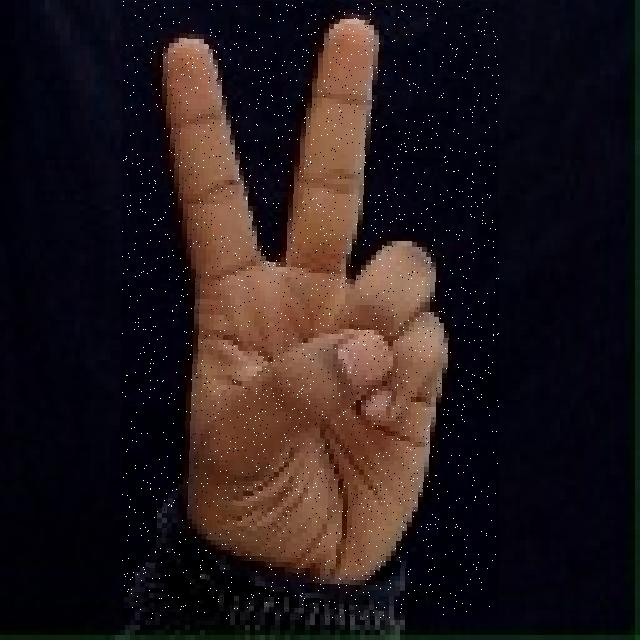No: (122, 2, 499, 620)
